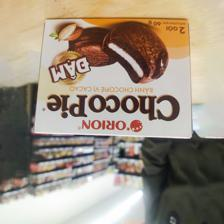Chocopie_cacao: (32, 16, 194, 140)
